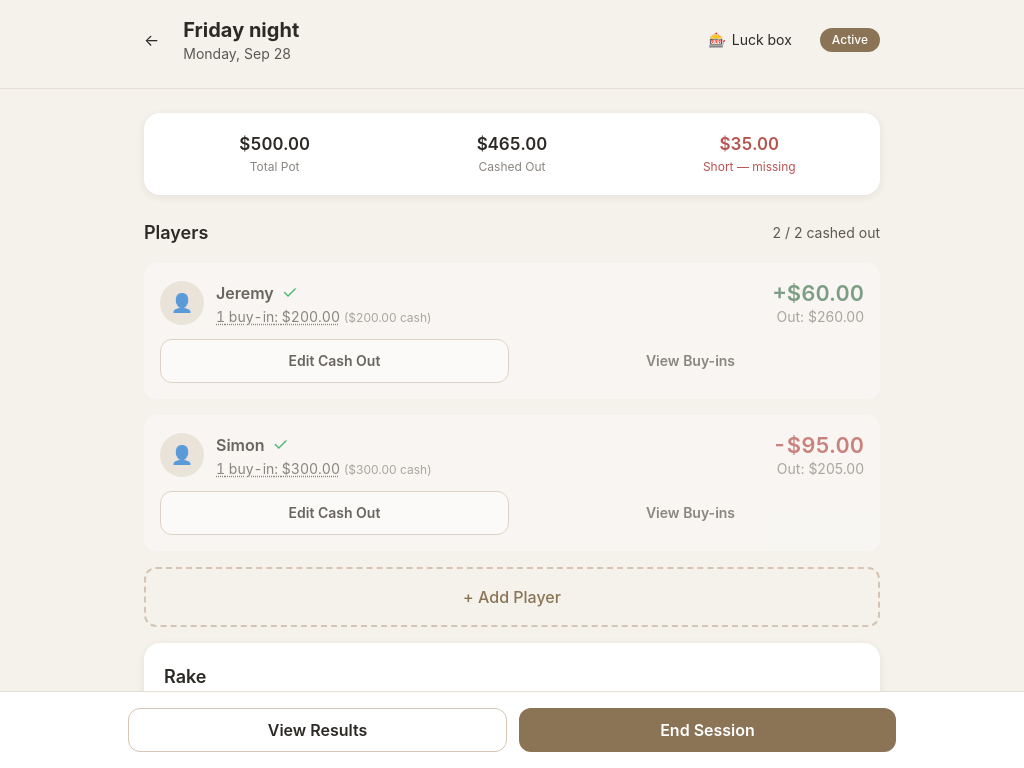
Test: SessionDetail: rake counted with the stacks › a pot that is off is flagged, but the session can still end
This screenshot has width=1024, height=768.
Step 1. Click the button "End Session" → (708, 730), box [519,708,896,752]
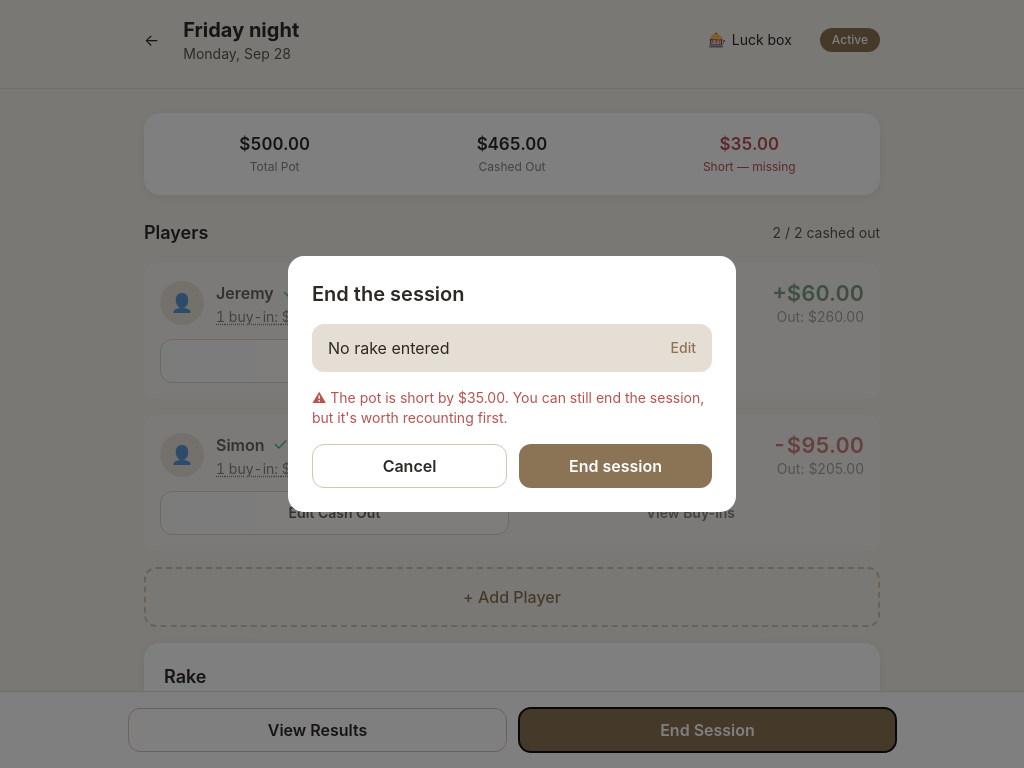
Expected: the text "No rake entered" is shown, [328,336,450,360]
Expected: the text "The pot is short by $35.00" is shown, [312,388,712,428]
Expected: the button "End session" is enabled, [519,444,712,488]
